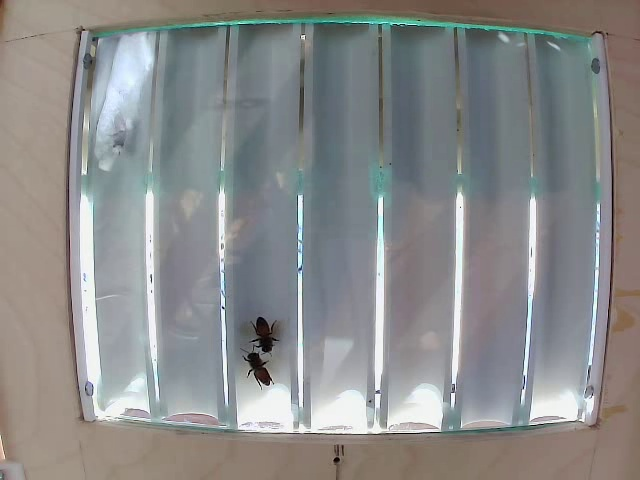bee: (253, 315, 287, 358), (240, 349, 273, 388)
